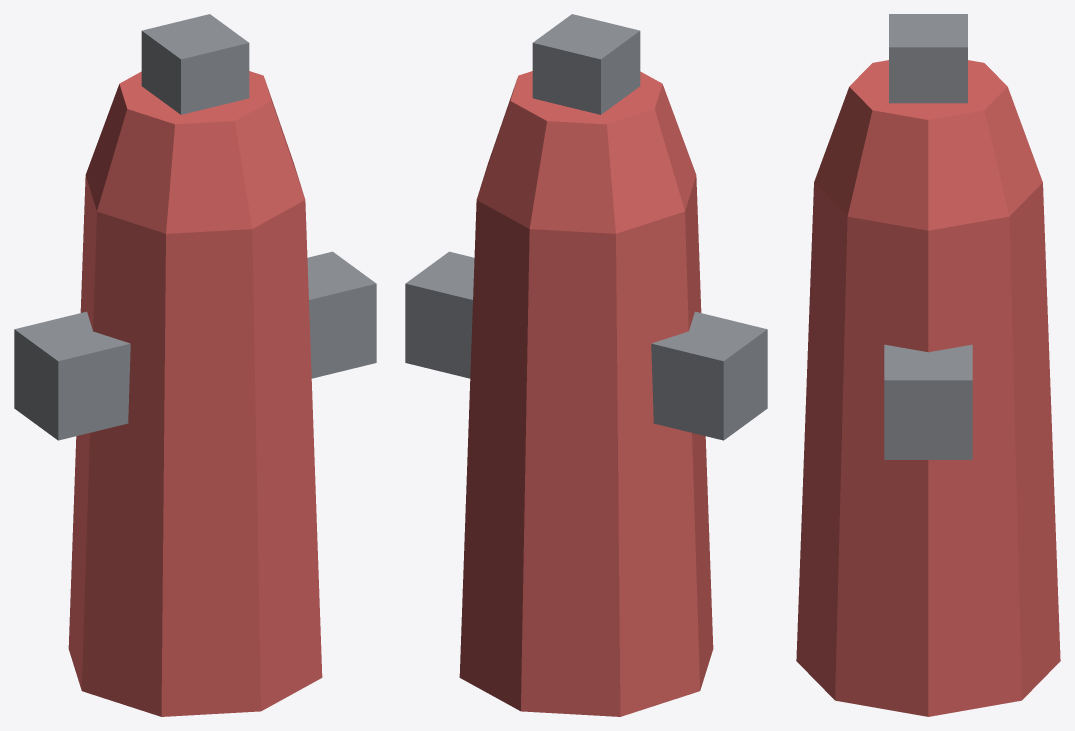
The model's file is prop-hydrant.glb.
3 views of the same model, side by side, from view 1: azimuth 30°, elevation 25°; view 2: azimuth 150°, elevation 25°; view 3: azimuth 270°, elevation 25° (orthographic).
Visible parts, largest first — view 1: hydrant-body, hydrant-caps; view 2: hydrant-body, hydrant-caps; view 3: hydrant-body, hydrant-caps.
Part boxes in pixels (x1,y1,x2,y2): hydrant-body: (68, 71, 322, 716); hydrant-caps: (14, 14, 376, 440); hydrant-body: (459, 71, 713, 716); hydrant-caps: (405, 14, 767, 440); hydrant-body: (796, 60, 1060, 716); hydrant-caps: (884, 14, 972, 459).
Size of the model in its own units: 0.42 by 0.79 by 0.3.
